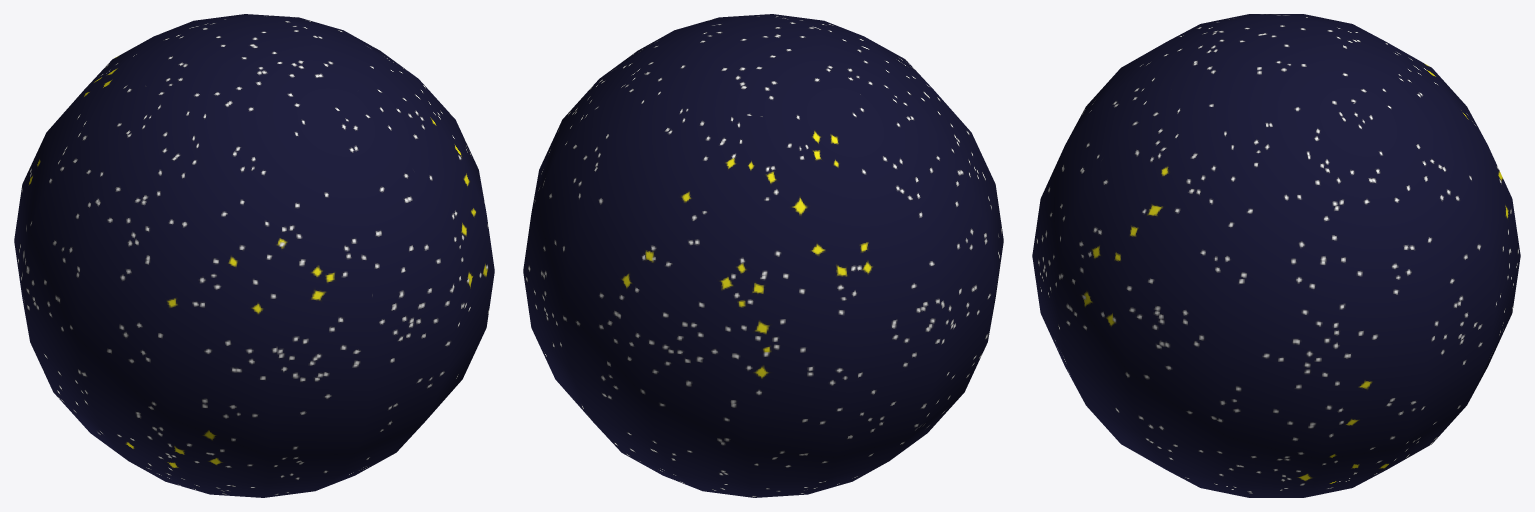
File: Starfield.fbx
3 renders of one model, left to right at view 1: azimuth 30°, elevation 25°; view 2: azimuth 150°, elevation 25°; view 3: azimuth 270°, elevation 25°, orthographic.
Parts seen in each view (by area): view 1: Starfield; view 2: Starfield; view 3: Starfield.
Boxes of the visible parts, x1,y1,x2,y2 form: Starfield: (14,14,494,497); Starfield: (523,14,1003,497); Starfield: (1032,14,1520,497).
Size of the model in its own units: 476 by 483 by 489.
1 material, 1 textured.
